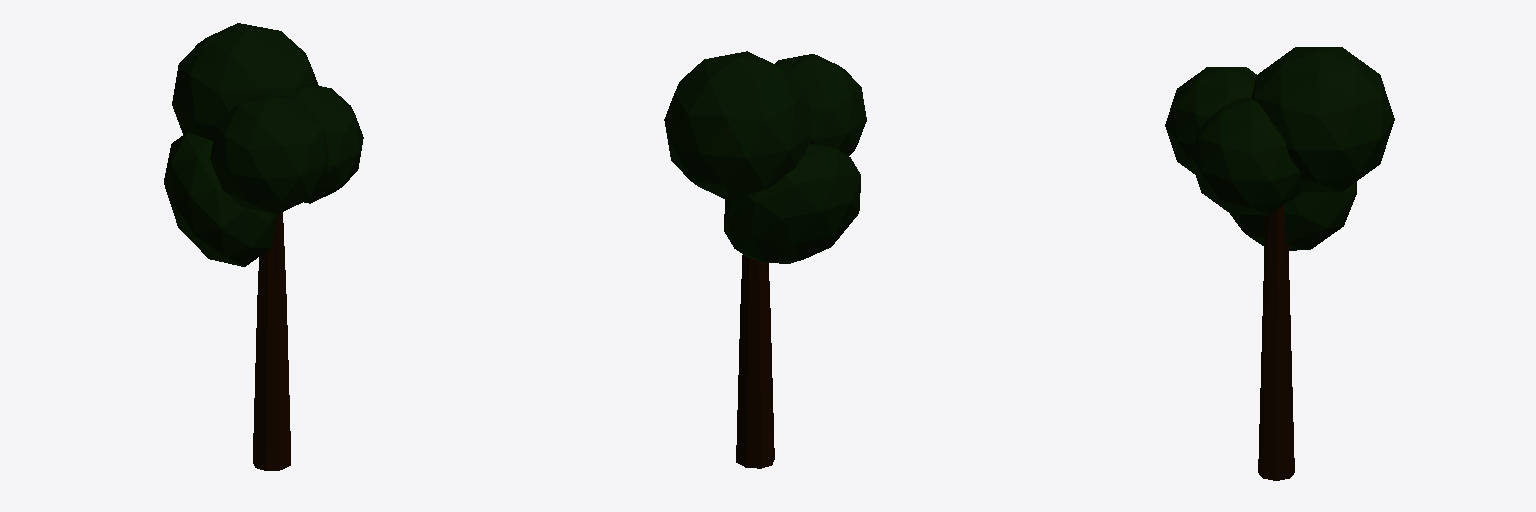
File: tree1.obj
3 renders of one model, left to right at view 1: azimuth 30°, elevation 25°; view 2: azimuth 150°, elevation 25°; view 3: azimuth 270°, elevation 25°, orthographic.
Parts seen in each view (by area): view 1: Cube; view 2: Cube; view 3: Cube.
Part boxes in pixels (x1,y1,x2,y2): Cube: (164,23,363,470); Cube: (664,51,866,468); Cube: (1165,47,1394,480).
Size of the model in its own units: 0.9015 by 2.16 by 1.07.